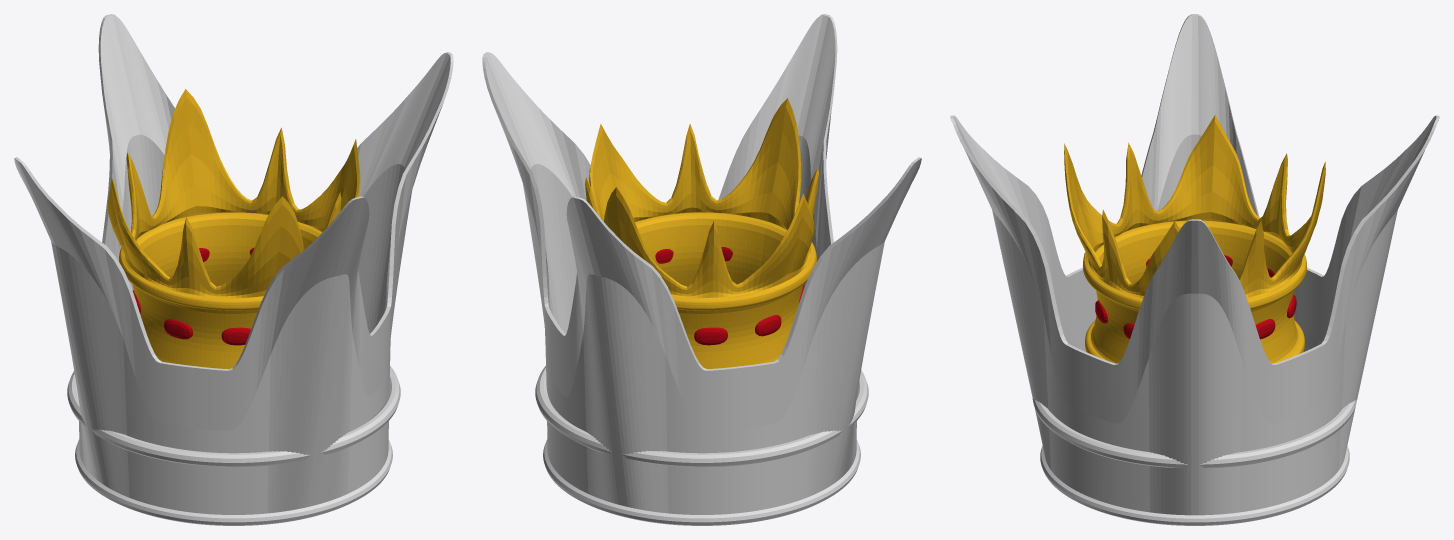
Rendered from crown.fbx.
3 views of the same model, side by side, from view 1: azimuth 30°, elevation 25°; view 2: azimuth 150°, elevation 25°; view 3: azimuth 270°, elevation 25° (orthographic). The views are drawn at different scales.
Parts seen in each view (by area): view 1: Torus.001, Circle, Torus.002, Cube; view 2: Torus.001, Circle, Torus.002, Cube; view 3: Torus.001, Circle, Torus.002, Cube.
Boxes of the visible parts, bbox=[...] form: Torus.001: bbox=[14, 14, 453, 525]; Circle: bbox=[107, 89, 360, 369]; Torus.002: bbox=[67, 366, 400, 467]; Cube: bbox=[133, 247, 254, 345]; Torus.001: bbox=[482, 14, 921, 525]; Circle: bbox=[585, 98, 818, 369]; Torus.002: bbox=[535, 366, 868, 467]; Cube: bbox=[655, 247, 804, 345]; Torus.001: bbox=[950, 14, 1439, 525]; Circle: bbox=[1064, 115, 1325, 363]; Torus.002: bbox=[1032, 398, 1357, 467]; Cube: bbox=[1095, 255, 1296, 339].
Bounding box in the file's own units: 474 × 369 × 474.
